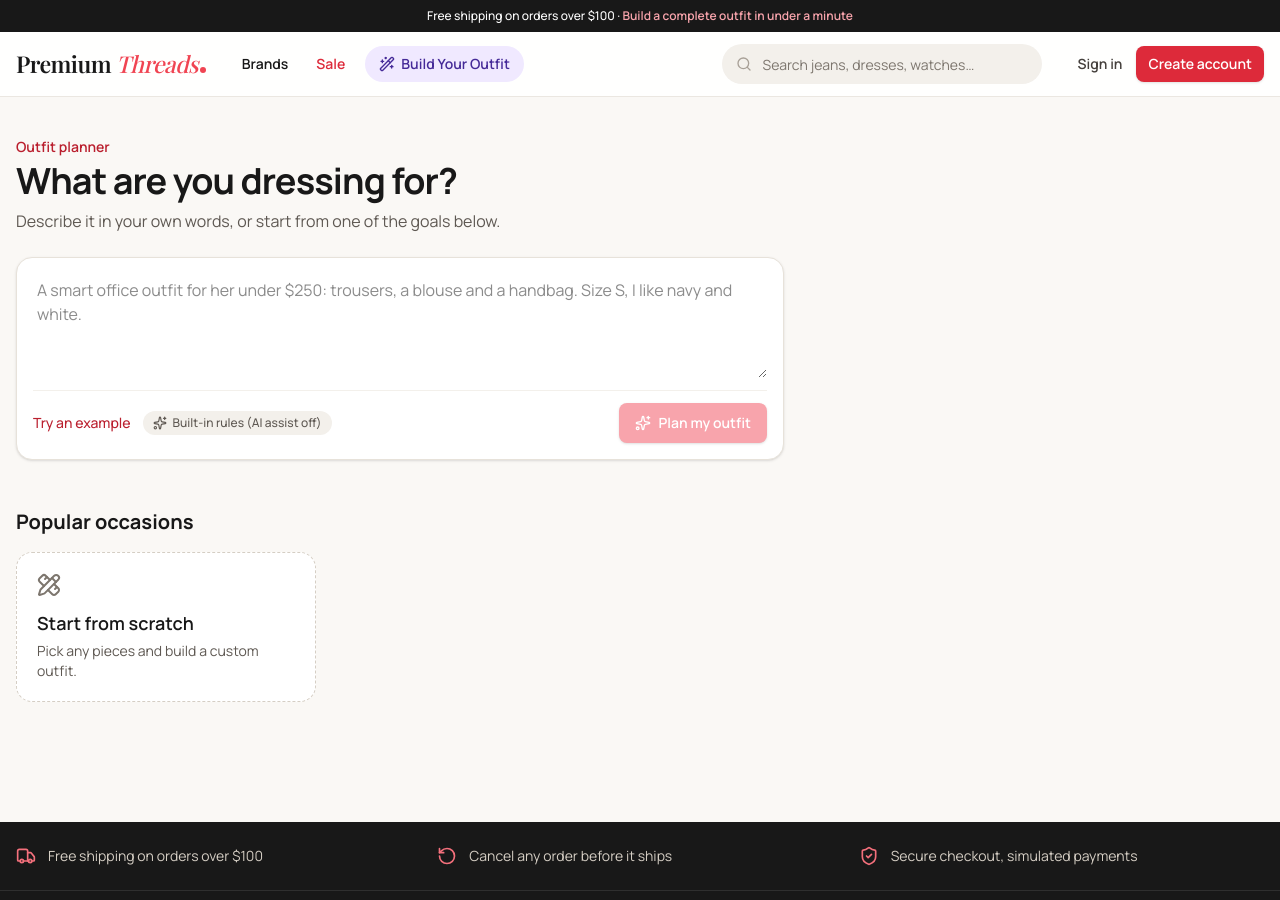
Test: goal-based shopping › interprets a described goal and pre-fills the wizard with it
The image size is (1280, 900).
Type "Office outfit for $1,500, I already have a jacket" into the text box named "Describe your goal" at (400, 326), box x1=33 y1=274 x2=767 y2=378
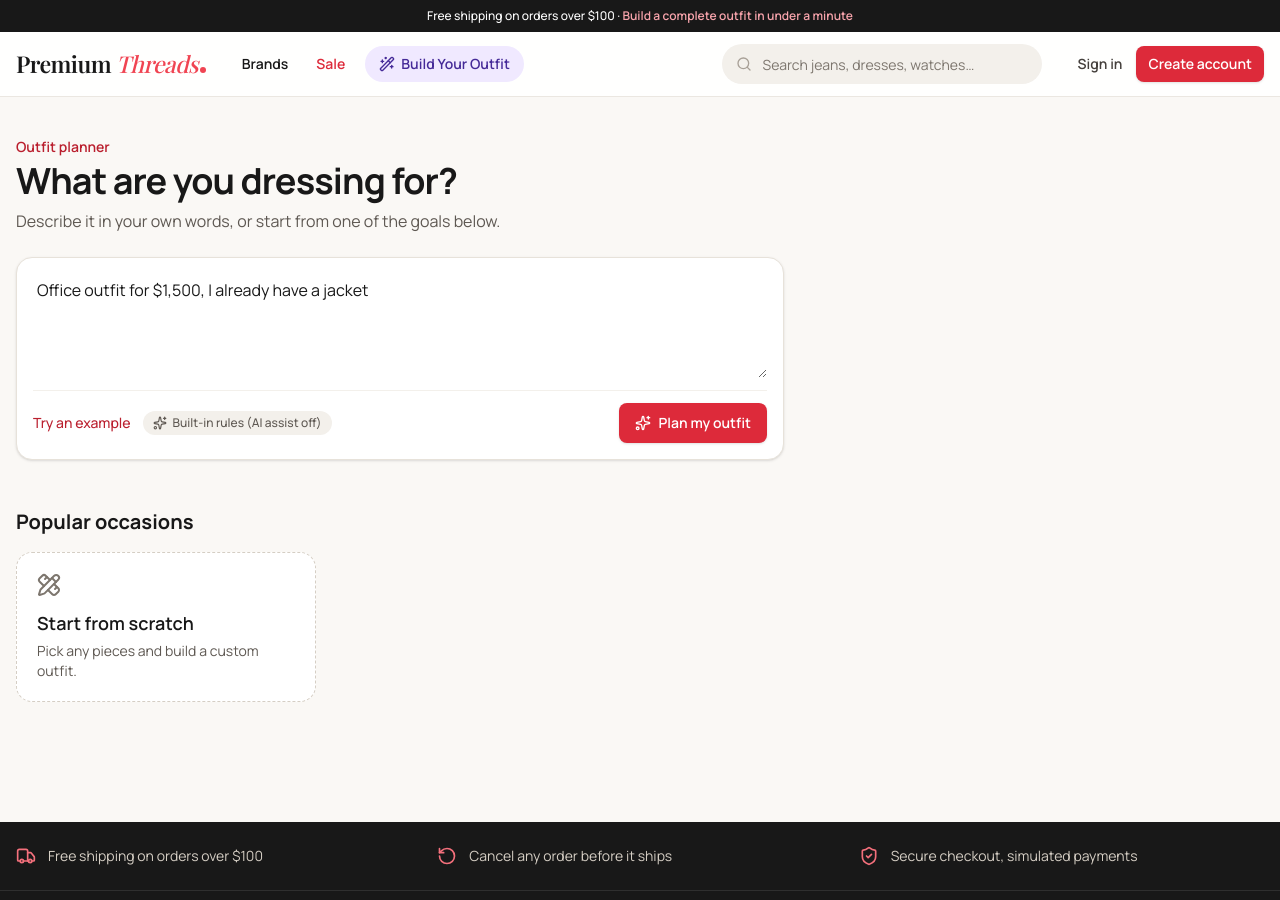
Click the button "Plan my outfit" at (693, 423), box x1=618 y1=403 x2=767 y2=443
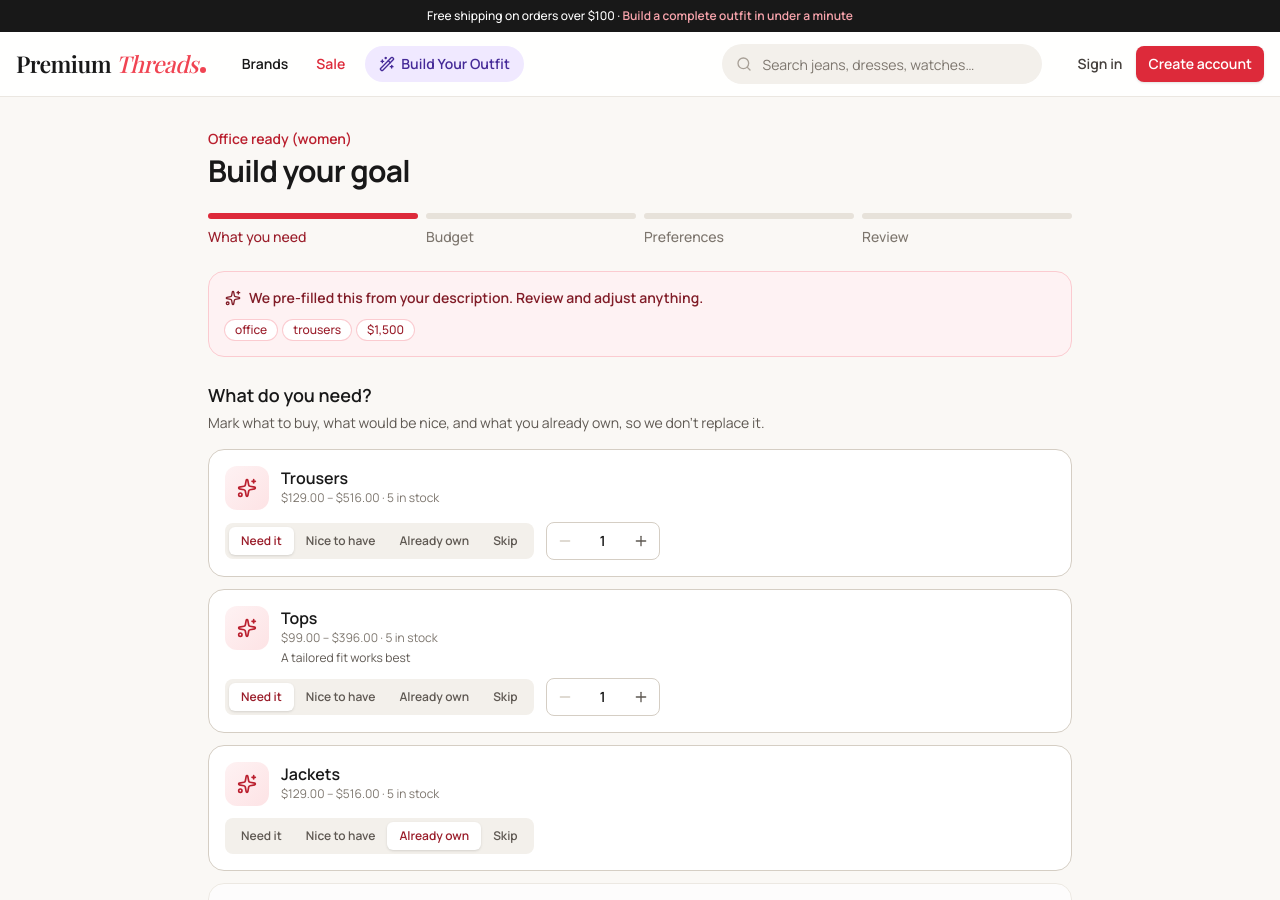
Result: the heading "Build your goal" is shown at x1=208 y1=150 x2=410 y2=191
Result: the text "pre-filled this from your description" is shown at x1=249 y1=288 x2=703 y2=307
Result: the list item "$1,500" is shown at x1=357 y1=320 x2=414 y2=340
